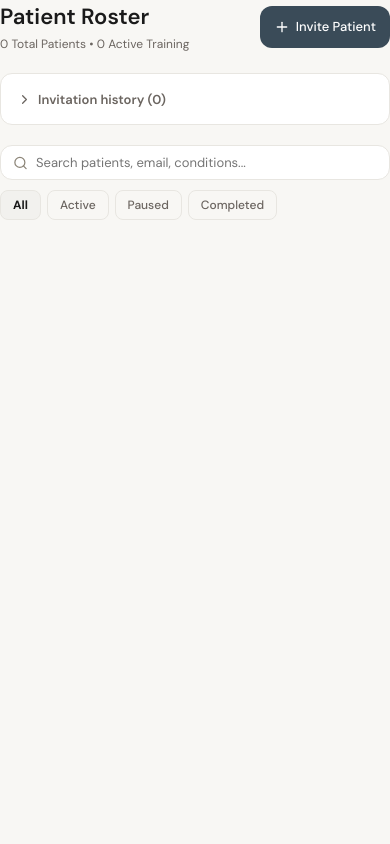
Test: ClientRosterView blank-profile editing › starts invitations unassigned and requires explicit clinical selections
Click the button "Invite Patient" at x=325, y=26, box [260,6,389,48]
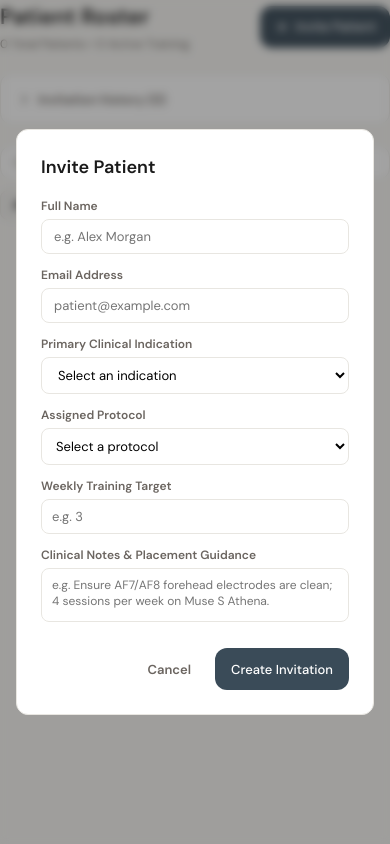
Type "New Patient" into the field with placeholder "e.g. Alex Morgan" at x=195, y=236, box [41,219,349,254]
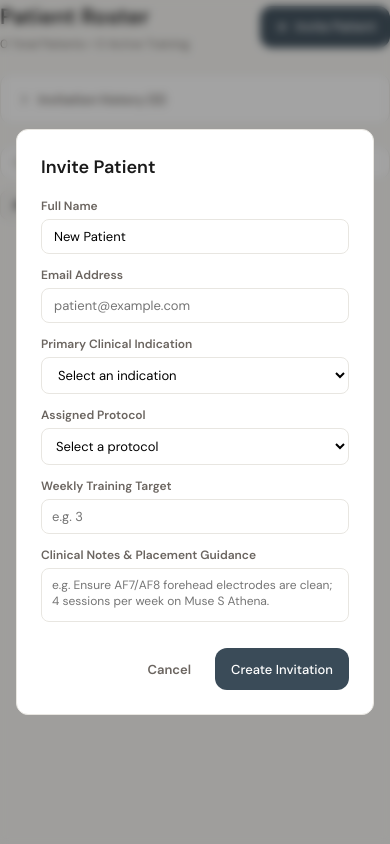
Now the number field with placeholder "e.g. 3" is empty, box [41,499,349,534]
Submit the form, box [41,197,349,690]
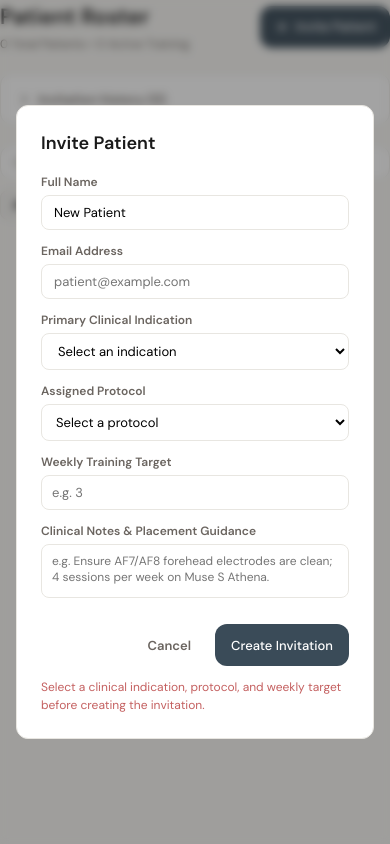
Now the message shows "Select a clinical indication", box [41,679,341,713]
